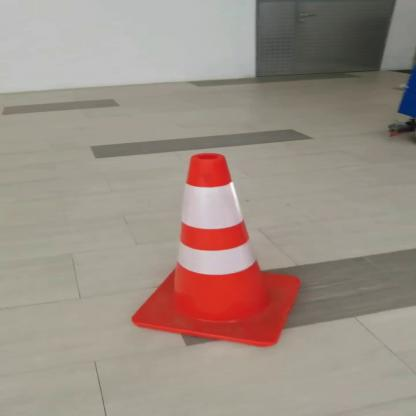cone: (128, 149, 302, 355)
